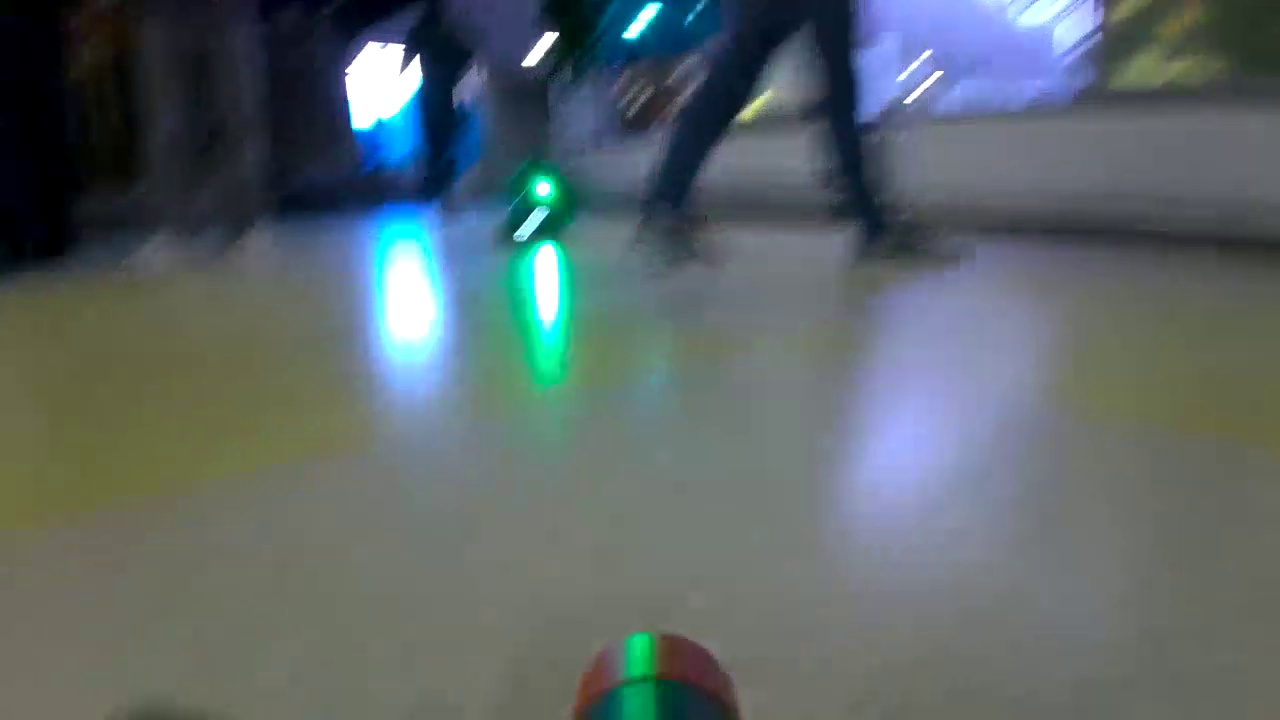robot: (512, 175, 571, 245)
